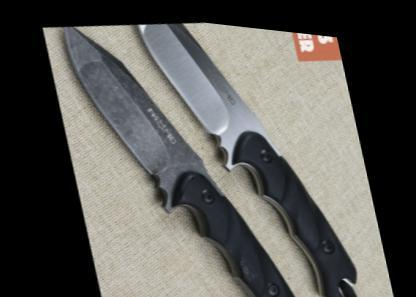knife: (58, 11, 192, 194), (128, 11, 267, 164)
